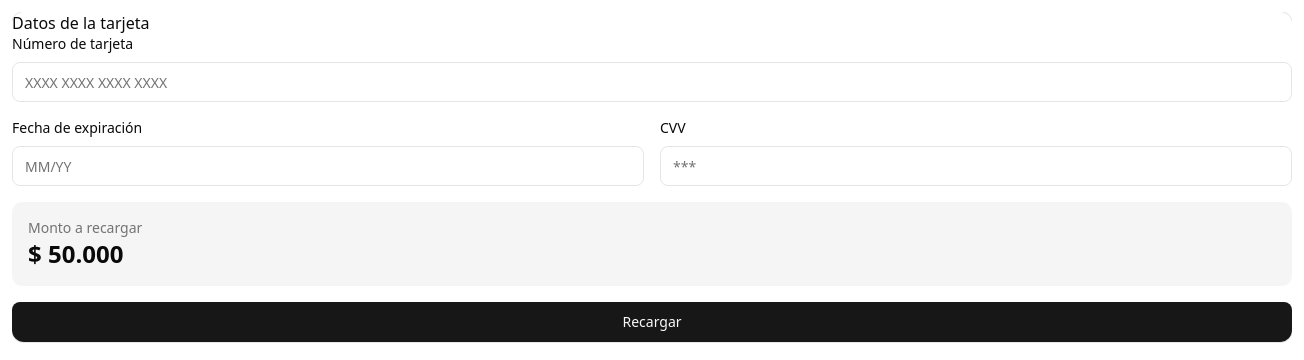
Test case: CardTopUpForm › formats card number with spaces
This screenshot has width=1304, height=360.
Type "4111111111111111" into the field labelled "Número de tarjeta" at (652, 82), box 12,62 -> 1292,102
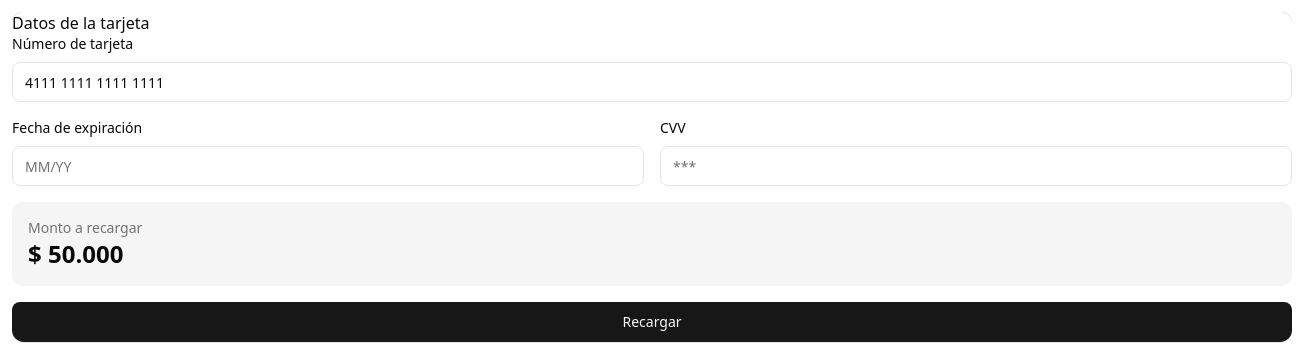
Expected: the field labelled "Número de tarjeta" holds "4111 1111 1111 1111", 12,62 -> 1292,102
